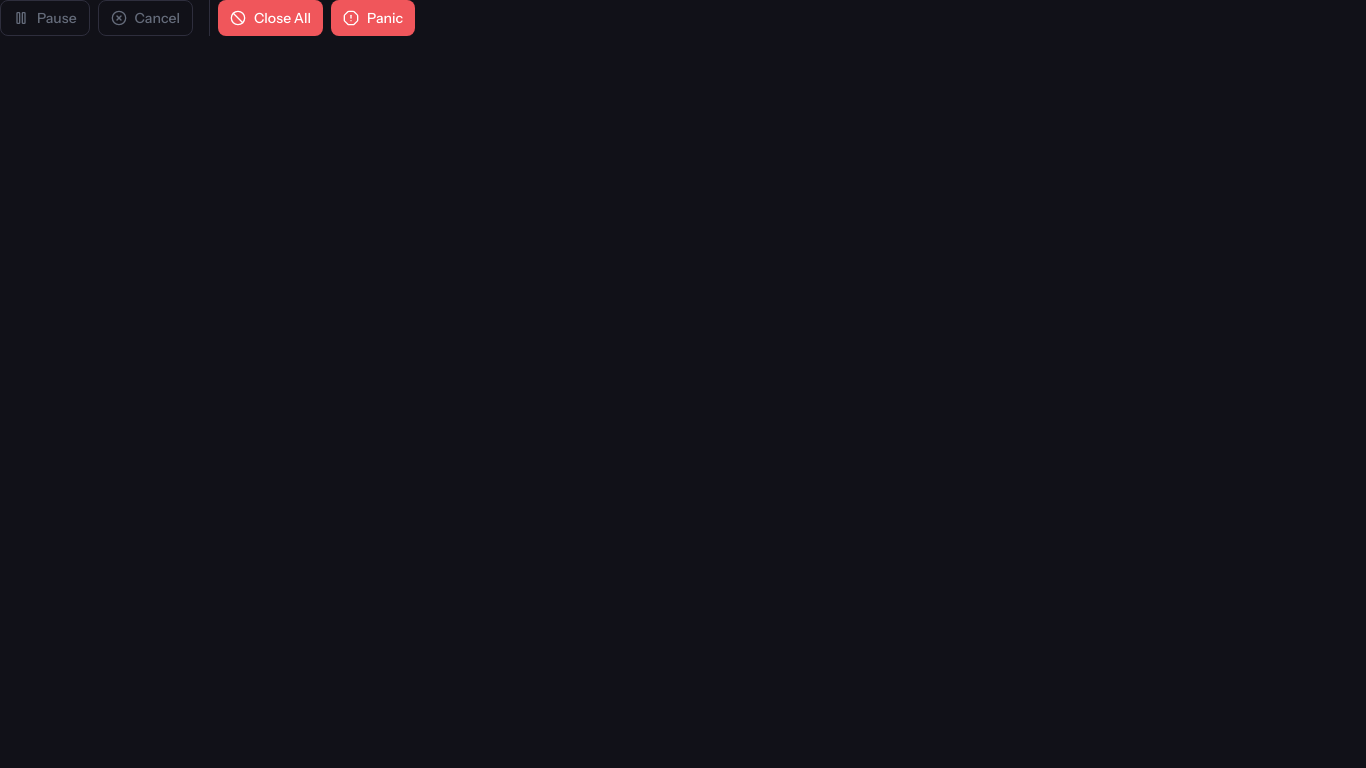
Controls › surfaces a non-readOnly command failure as a visible alert (never looks like success)
The width and height of the screenshot is (1366, 768).
Note: destructive path: confirm, then the failed call must show an alert
What coordinates should you click on to do the following:
click the button "Panic"
I would click on:
 (373, 18)
Its box is [331,0,415,36].
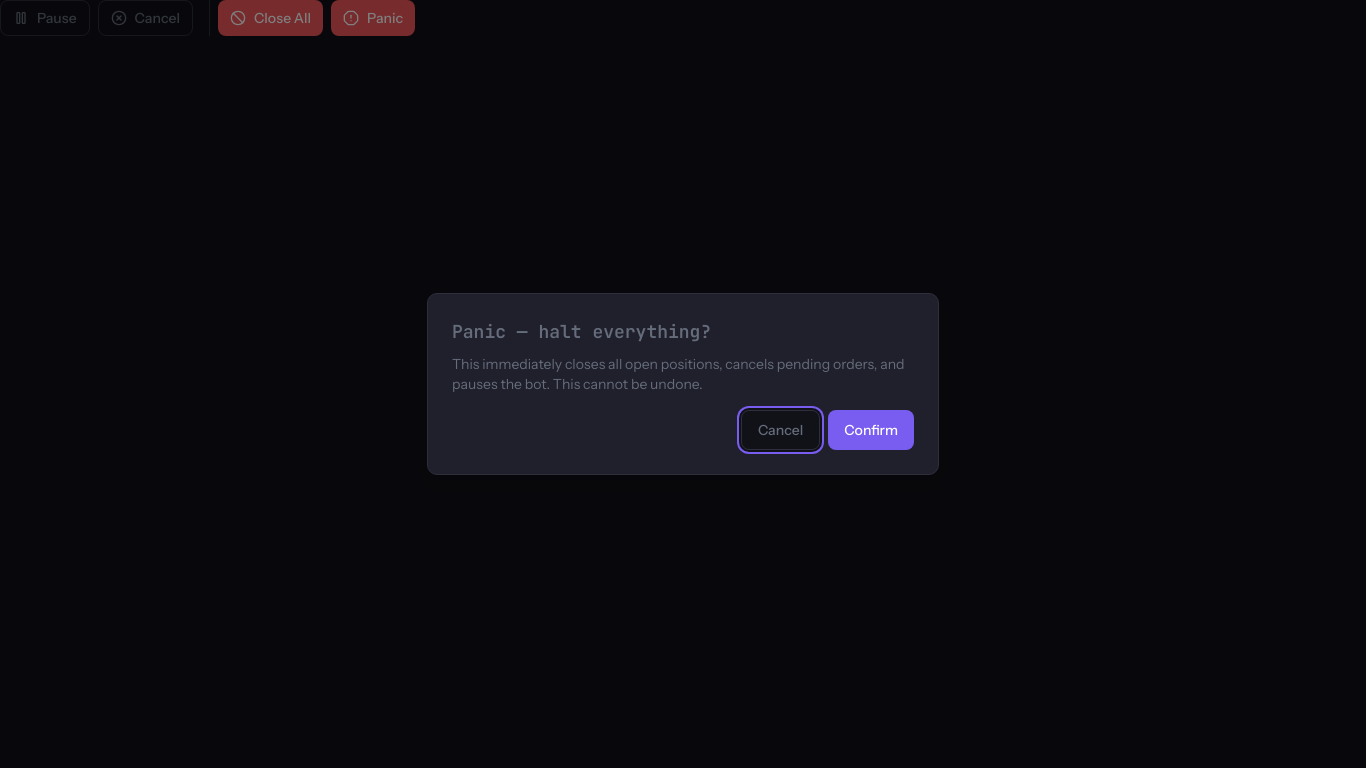
What coordinates should you click on to do the following:
click the button "Confirm"
I would click on:
 (871, 430)
Its box is [828,410,914,450].
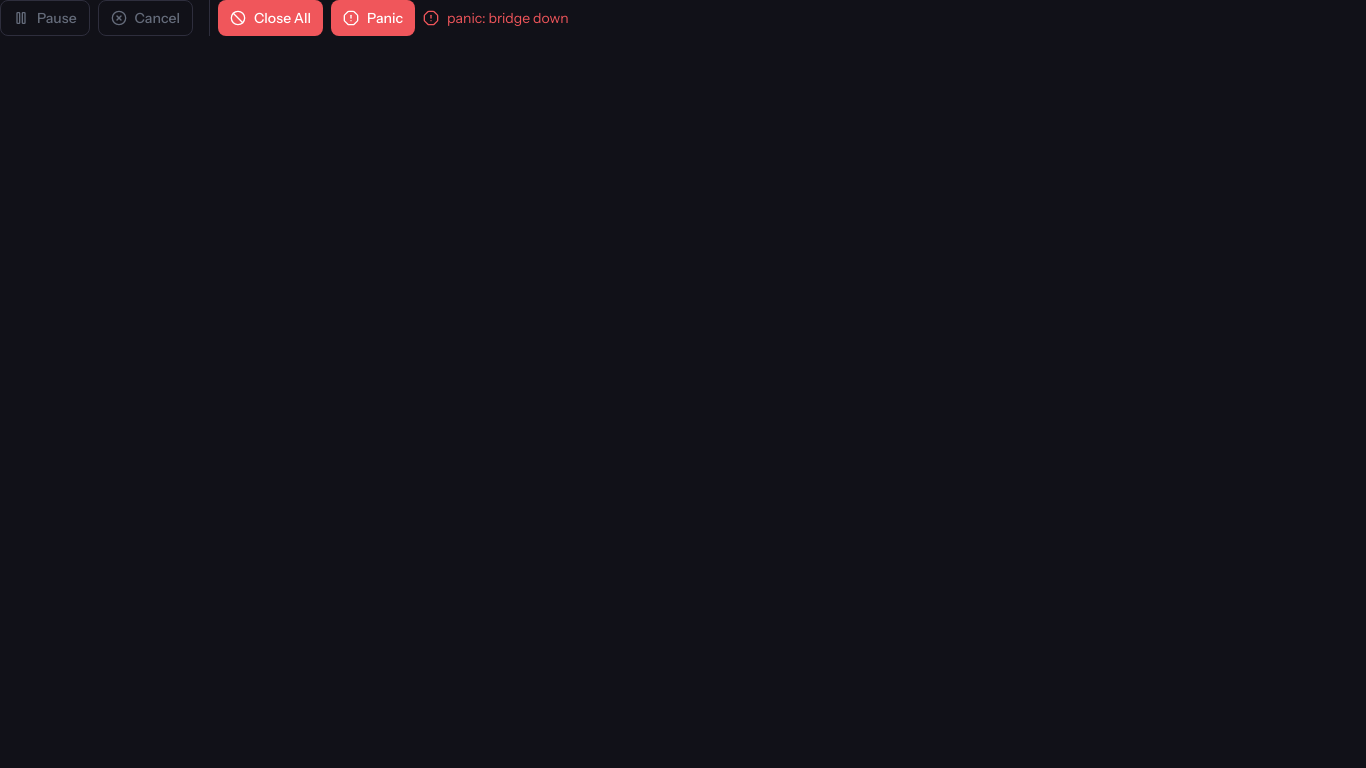
Result: the message reads "panic: bridge down" at [447,9,569,27]
